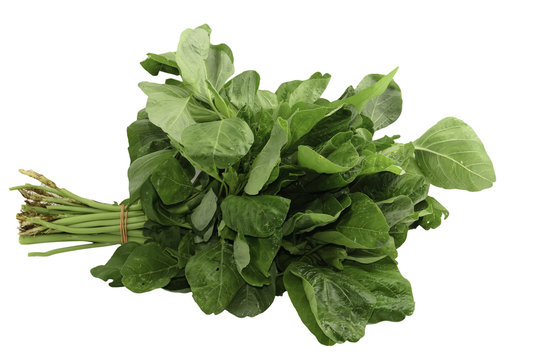Bayam: (11, 29, 509, 353)
